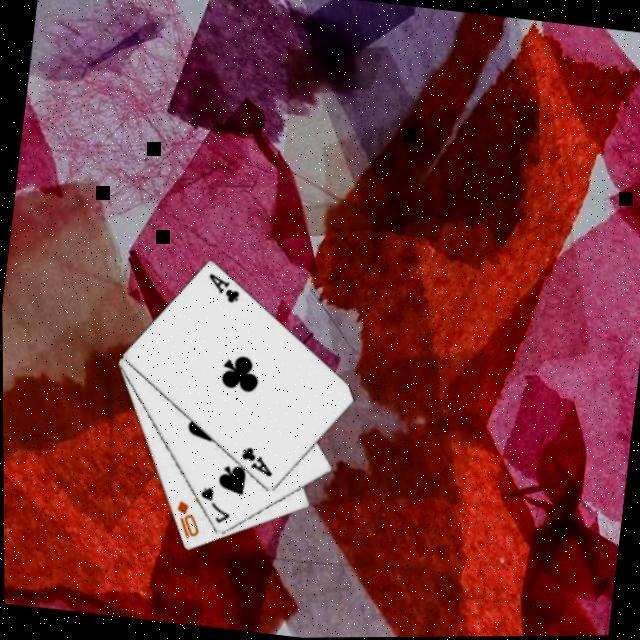10D: (168, 498, 203, 544)
7S: (192, 486, 232, 530)
AC: (234, 446, 276, 482), (200, 272, 242, 308)
